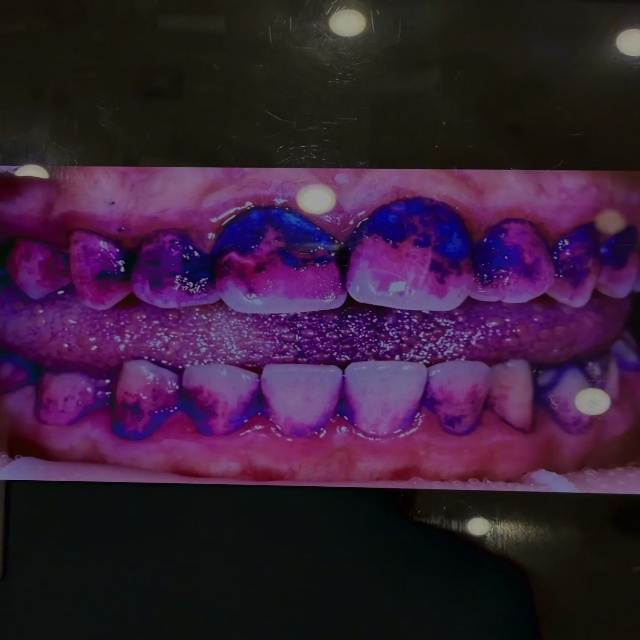clean_tooth: (330, 10, 364, 35)
plaque: (0, 191, 639, 492)
